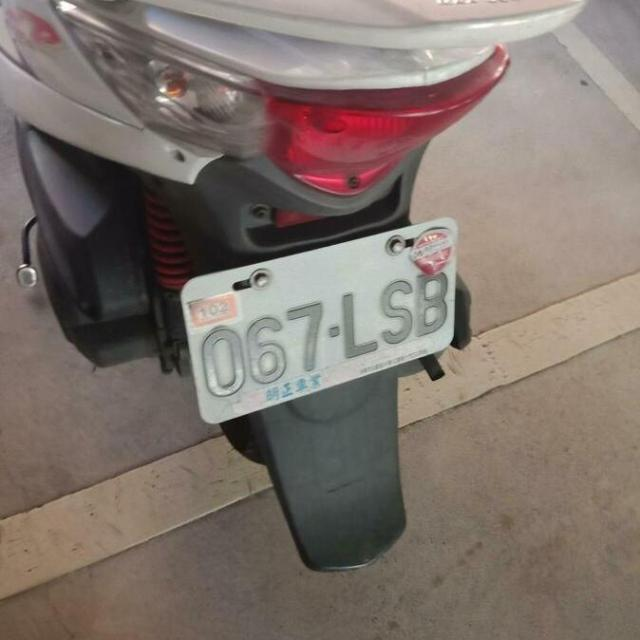W: (163, 210, 480, 432)
